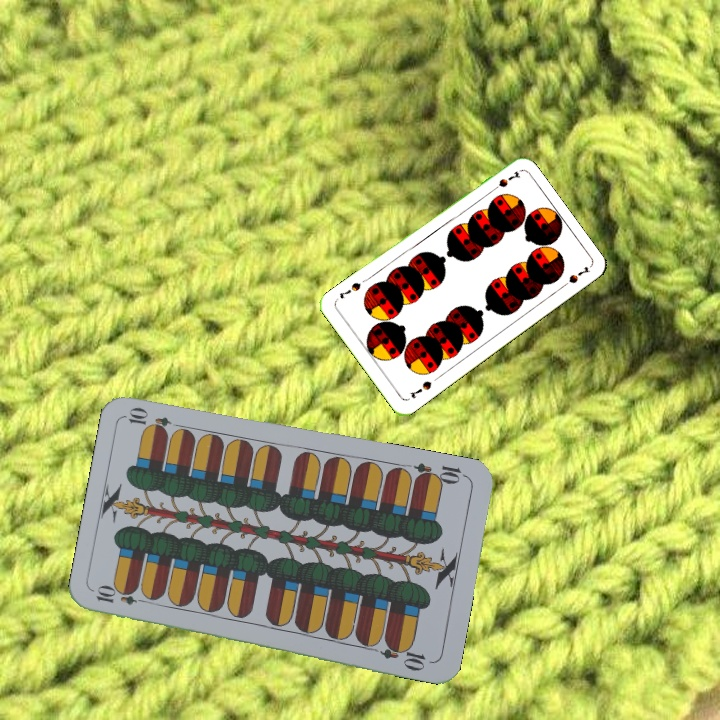E10: (411, 459, 469, 488), (92, 585, 151, 608)
S7: (486, 167, 522, 195), (405, 377, 434, 401)
